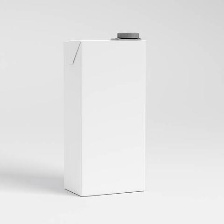carton: (56, 30, 149, 198)
